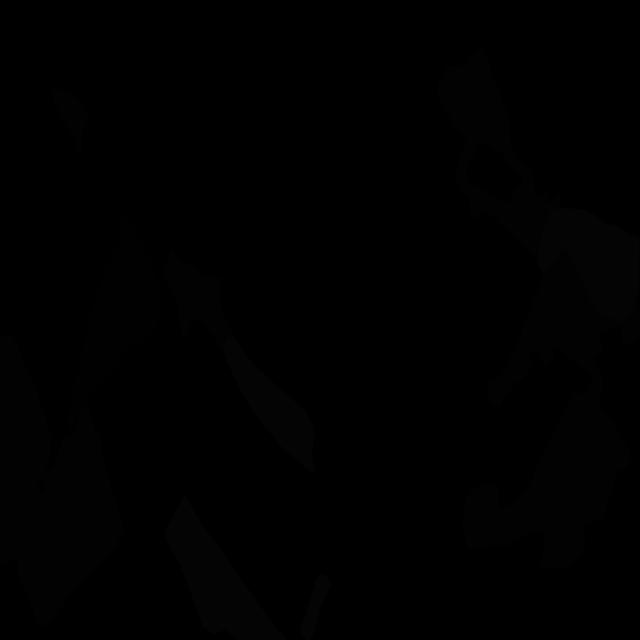cardboard: (462, 365, 632, 567), (486, 249, 640, 407), (16, 406, 124, 627), (0, 332, 52, 564), (436, 46, 512, 197), (467, 145, 561, 261), (163, 250, 236, 357), (50, 86, 89, 153)
rigid_plastic: (65, 210, 162, 436)
soft_plastic: (164, 495, 286, 640), (224, 337, 315, 473), (538, 207, 640, 321), (300, 574, 330, 640)
